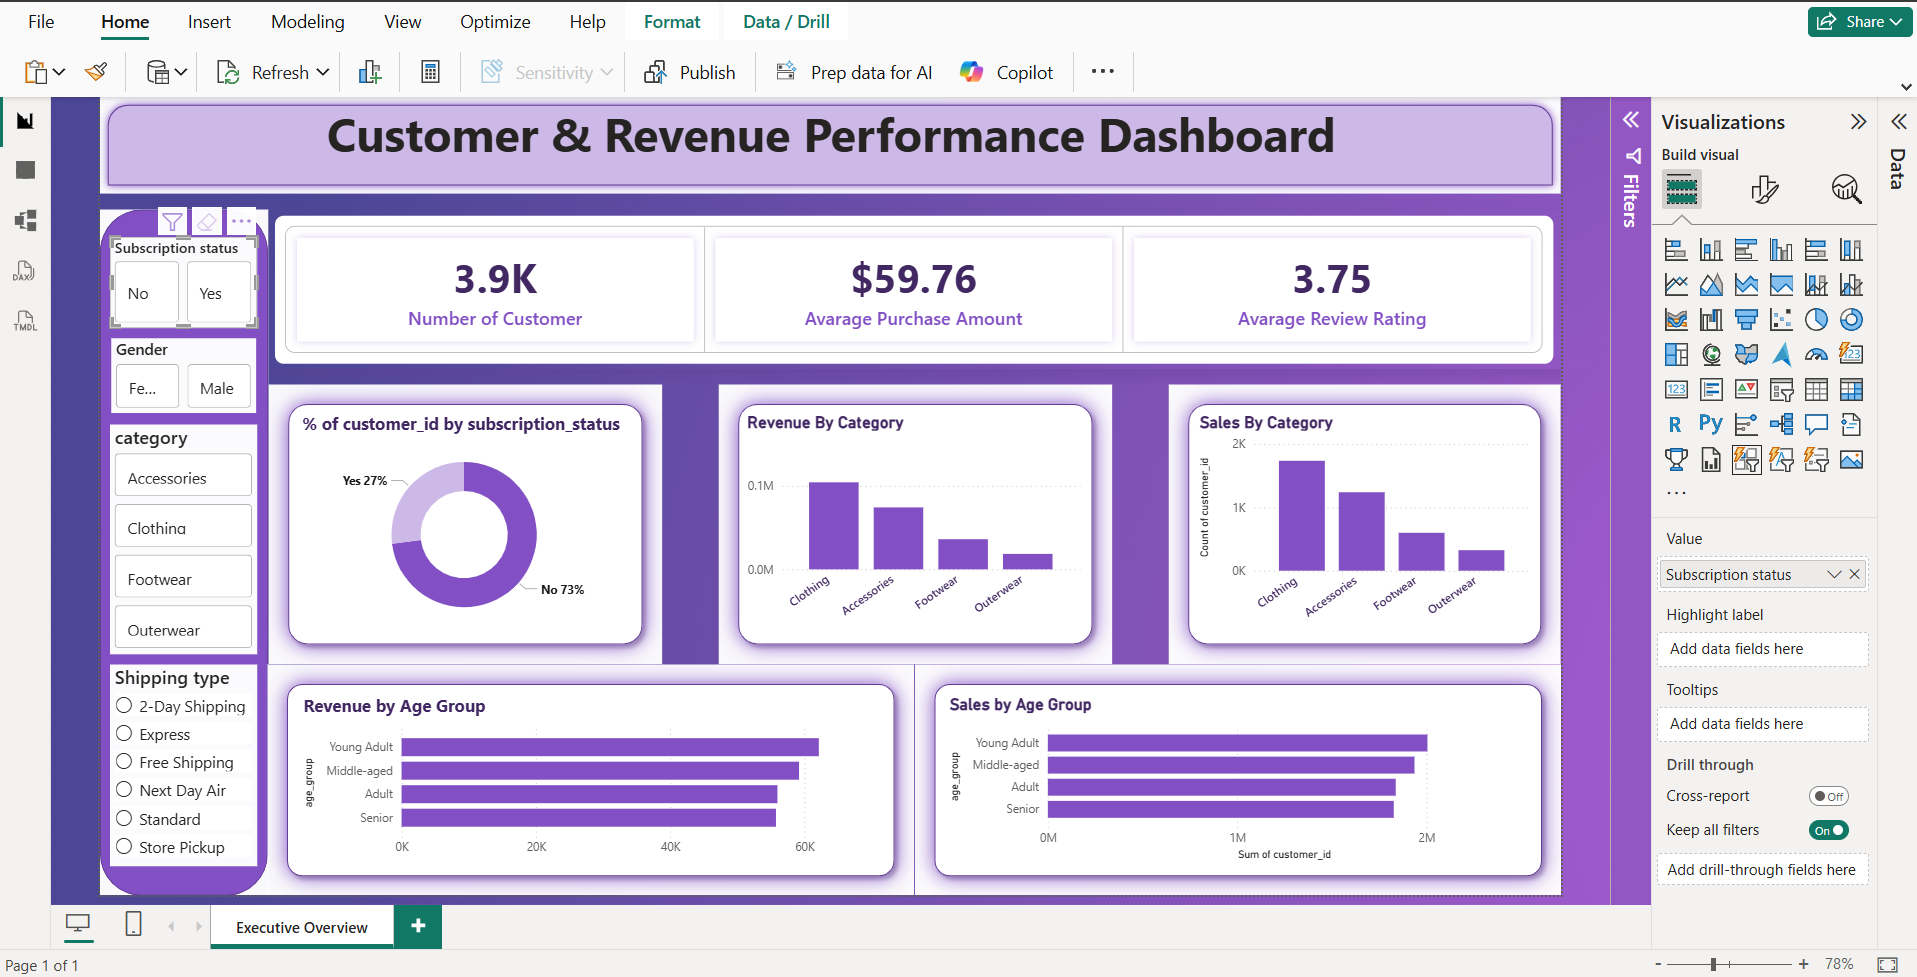

What the dashboard file says about the page in this screenshot:
{"tool":"powerbi","page":{"name":"Executive Overview","canvas":[1500,820],"ordinal":0},"visuals":[{"type":"cardVisual","fields":{"Data":["public customer.Number of Customer","public customer.Avarage Purchase Amount","public customer.Avarage Review Rating"]},"box":[172.7,115.6,1327.2,164.3],"z":0},{"type":"shape","box":[0,0,1499.9,98.9],"z":1000},{"type":"textbox","box":[27.9,0,1445.6,76.6],"z":2000},{"type":"shape","box":[172.7,295.2,403.9,286.9],"z":3000},{"type":"donutChart","title":"% of customer_id by subscription_status","fields":{"Category":["public customer.subscription_status"],"Y":["CountNonNull(public customer.customer_id)"]},"box":[203.3,323.1,342.6,229.8],"z":4000},{"type":"shape","box":[635.1,295.2,403.9,286.9],"z":5000},{"type":"shape","box":[1097.4,295.2,402.5,286.9],"z":6000},{"type":"clusteredColumnChart","title":"Revenue By Category","fields":{"Y":["Sum(public customer.purchase_amount)"],"Category":["public customer.category"]},"box":[660.1,323.1,352.3,229.8],"z":7000},{"type":"clusteredColumnChart","title":"Sales By Category","fields":{"Y":["CountNonNull(public customer.customer_id)"],"Category":["public customer.category"]},"box":[1123.9,323.1,349.6,231.2],"z":8000},{"type":"shape","box":[0,114.9,172.4,704.8],"z":9000},{"type":"advancedSlicerVisual","fields":{"Values":["public customer.subscription_status"]},"box":[10.6,143.7,151.2,93.8],"z":10000},{"type":"advancedSlicerVisual","fields":{"Values":["public customer.gender"]},"box":[11.1,247.9,149,77],"z":11000},{"type":"advancedSlicerVisual","fields":{"Values":["public customer.category"]},"box":[10.6,335.8,151.2,235.9],"z":12000},{"type":"clusteredBarChart","title":"Revenue by Age Group","fields":{"Y":["Sum(public customer.purchase_amount)"],"Category":["public customer.age_group"]},"box":[204.2,614,603.5,175.4],"z":13000},{"type":"shape","box":[172.4,582.3,663.9,237.4],"z":14000},{"type":"shape","box":[836.4,582.3,663.9,237.4],"z":15000},{"type":"clusteredBarChart","title":"Sales by Age Group","fields":{"Y":["Sum(public customer.customer_id)"],"Category":["public customer.age_group"]},"box":[867.6,614.2,605.8,175.5],"z":16000},{"type":"listSlicer","title":"Shipping type","fields":{"Values":["public customer.shipping_type"]},"box":[10.6,582.3,151.2,207.2],"z":17000},{"type":"clusteredBarChart","title":"Revenue by Age Group","fields":{"Y":["Sum(public customer.purchase_amount)"],"Category":["public customer.age_group"]},"box":[204.2,614,603.5,175.4],"z":18000}]}

Visuals, with their boxes on the page's 1500x820 design canvas (x1, y1, x2, y2). These are canvas units, not pixel positions in the 1917x977 screenshot, which may show the page scaled, cropped or inside an application window:
cardVisual - public customer.Number of Customer x public customer.Avarage Purchase Amount: select_region(173, 116, 1500, 280)
shape: select_region(0, 0, 1500, 99)
textbox: select_region(28, 0, 1474, 77)
shape: select_region(173, 295, 577, 582)
"% of customer_id by subscription_status" donutChart: select_region(203, 323, 546, 553)
shape: select_region(635, 295, 1039, 582)
shape: select_region(1097, 295, 1500, 582)
"Revenue By Category" clusteredColumnChart: select_region(660, 323, 1012, 553)
"Sales By Category" clusteredColumnChart: select_region(1124, 323, 1474, 554)
shape: select_region(0, 115, 172, 820)
advancedSlicerVisual - public customer.subscription_status: select_region(11, 144, 162, 238)
advancedSlicerVisual - public customer.gender: select_region(11, 248, 160, 325)
advancedSlicerVisual - public customer.category: select_region(11, 336, 162, 572)
"Revenue by Age Group" clusteredBarChart: select_region(204, 614, 808, 789)
shape: select_region(172, 582, 836, 820)
shape: select_region(836, 582, 1500, 820)
"Sales by Age Group" clusteredBarChart: select_region(868, 614, 1473, 790)
"Shipping type" listSlicer: select_region(11, 582, 162, 790)
"Revenue by Age Group" clusteredBarChart: select_region(204, 614, 808, 789)
